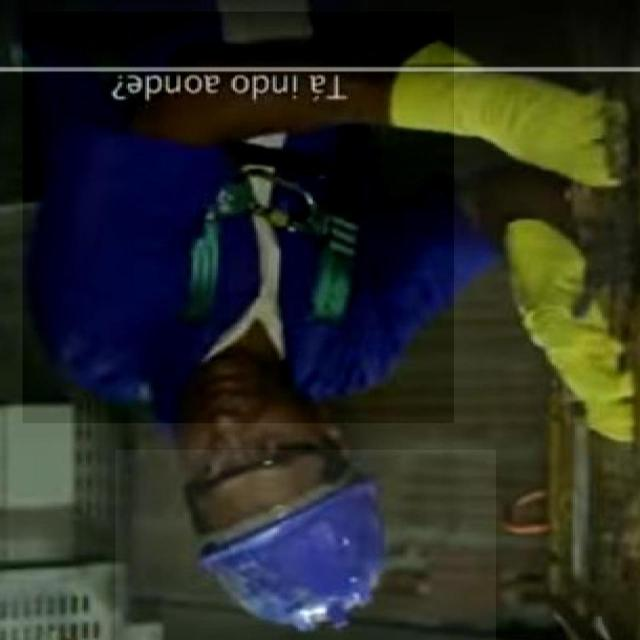Helmet: (22, 12, 454, 423), (116, 450, 496, 640)
